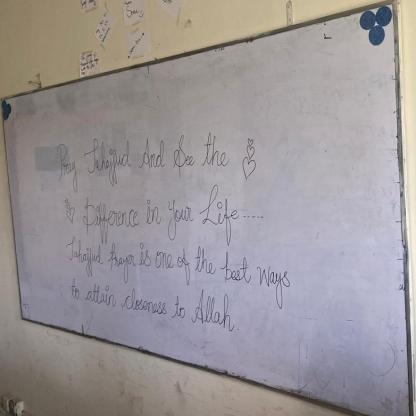Handwritten text: (57, 235, 296, 301), (45, 115, 237, 196), (56, 258, 247, 337), (76, 175, 247, 239)
Whiteboard: (0, 2, 416, 416)
